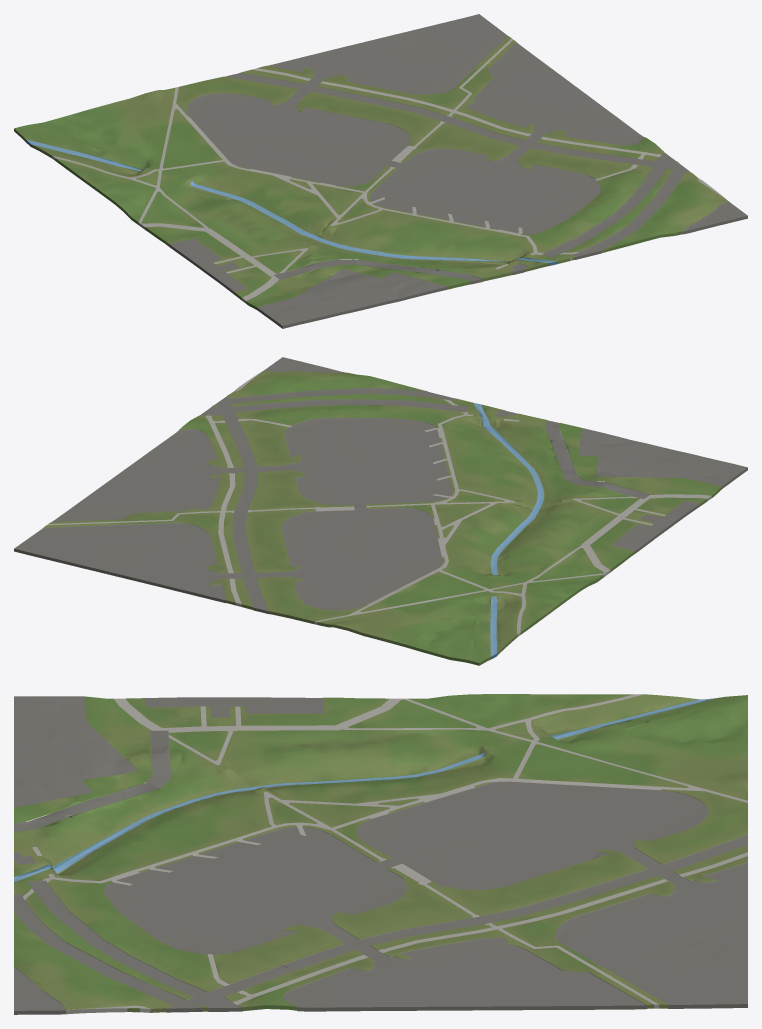
The picture shows the model from 3 angles, top to bottom: view 1: azimuth 30°, elevation 25°; view 2: azimuth 150°, elevation 25°; view 3: azimuth 270°, elevation 25°; orthographic projection. The views are drawn at different scales.
Parts seen in each view (by area): view 1: T-1--1.L1:utd:matte, T-1--1.L1:utd:water; view 2: T-1--1.L1:utd:matte, T-1--1.L1:utd:water; view 3: T-1--1.L1:utd:matte, T-1--1.L1:utd:water.
Part boxes in pixels (x1,y1,x2,y2): T-1--1.L1:utd:matte: (14,14,747,328); T-1--1.L1:utd:water: (27,140,556,262); T-1--1.L1:utd:matte: (14,357,747,665); T-1--1.L1:utd:water: (474,403,543,656); T-1--1.L1:utd:matte: (14,694,747,1014); T-1--1.L1:utd:water: (14,698,713,882).
Bounding box in the file's own units: 256 × 6.94 × 256.
